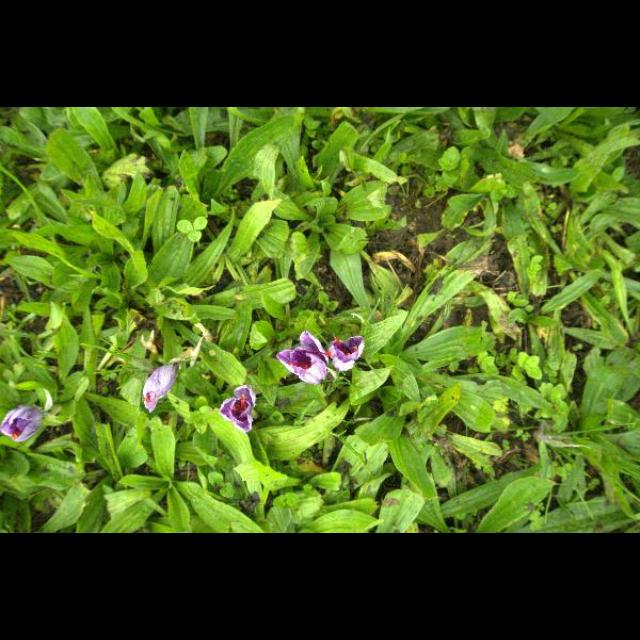flower: (277, 332, 331, 386), (218, 384, 258, 432), (144, 365, 176, 413), (0, 406, 42, 442), (329, 336, 366, 372)
